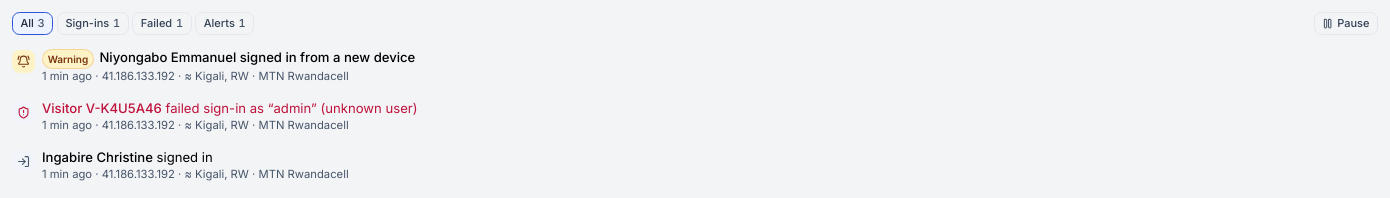
live event feed › filters by kind with counts
What coordinates should you click on to do the following:
click the radio button labelled "Failed 1"
I would click on:
 (162, 24)
Its box is 132,12 -> 192,35.
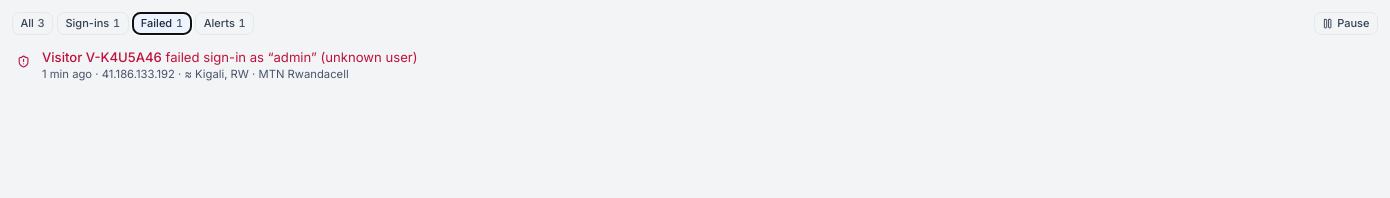
expect the list item shows "Visitor V-K4U5A46 failed sign-in as “admin” (unknown user)": met, box 12,50 -> 418,81
expect the number of list items is 1: met, box 12,50 -> 418,81
